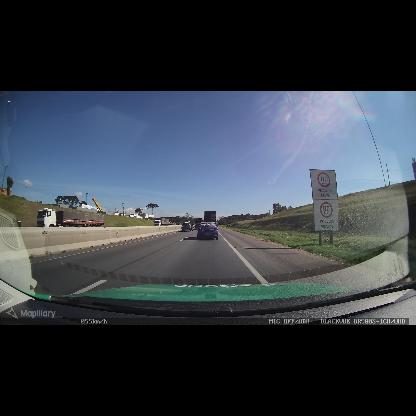R-19: (309, 169, 339, 232)
